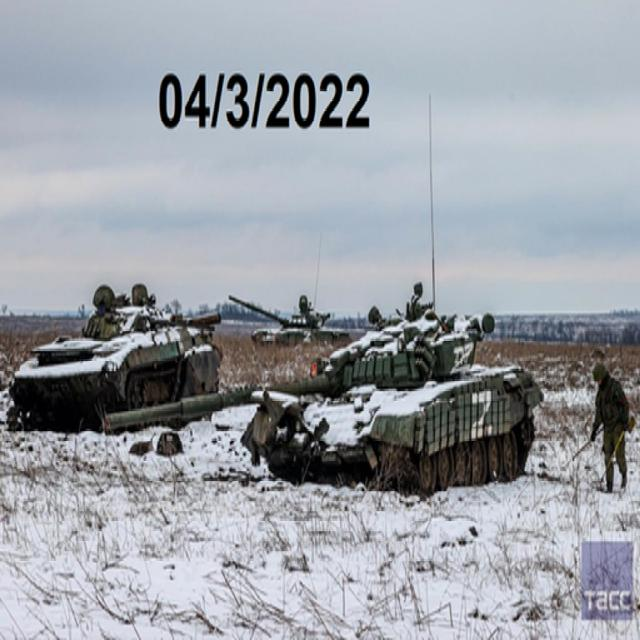APC-IFV: (8, 280, 222, 438)
TANK: (104, 291, 540, 498), (228, 282, 348, 351)
